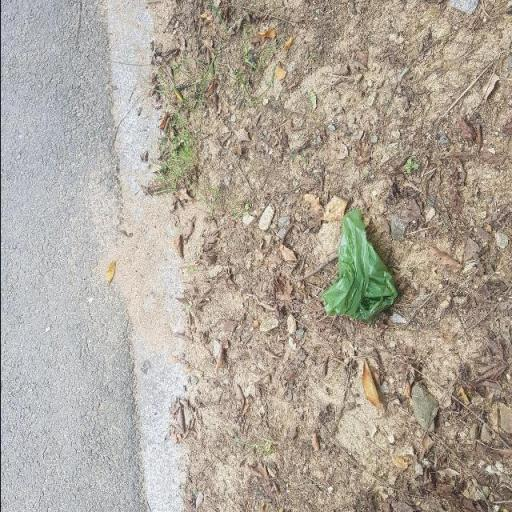plastic-bag: (319, 199, 403, 325)
